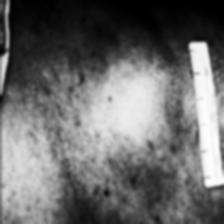Unclassified: (37, 29, 184, 224)
